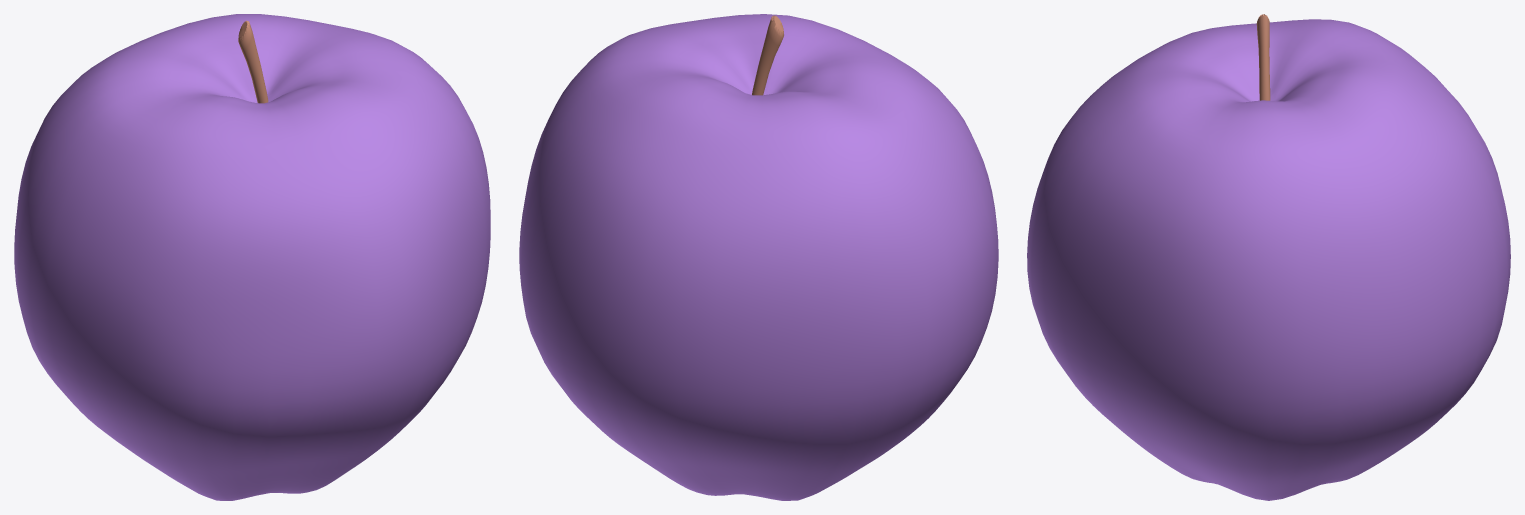
The picture shows the model from 3 angles, left to right: view 1: azimuth 30°, elevation 25°; view 2: azimuth 150°, elevation 25°; view 3: azimuth 270°, elevation 25°; orthographic projection.
Visible parts, largest first — view 1: defaultMaterial.005, defaultMaterial; view 2: defaultMaterial.005, defaultMaterial; view 3: defaultMaterial.005, defaultMaterial.
Part boxes in pixels (x1,y1,x2,y2): defaultMaterial.005: (14, 14, 490, 500); defaultMaterial: (238, 20, 268, 103); defaultMaterial.005: (519, 14, 998, 500); defaultMaterial: (752, 15, 783, 95); defaultMaterial.005: (1027, 19, 1510, 500); defaultMaterial: (1256, 14, 1270, 100).
Bounding box in the file's own units: 0.9673 × 1 × 0.9671.
